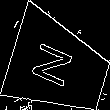N_E: (33, 39, 84, 95)
